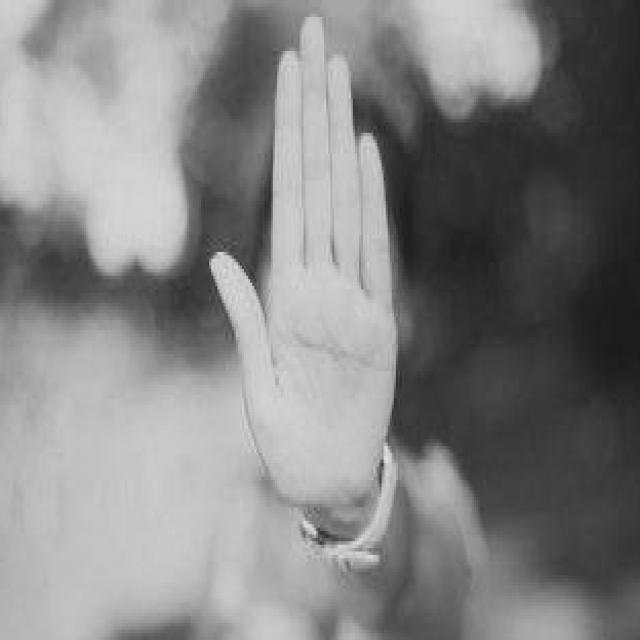stop: (204, 6, 403, 521)
